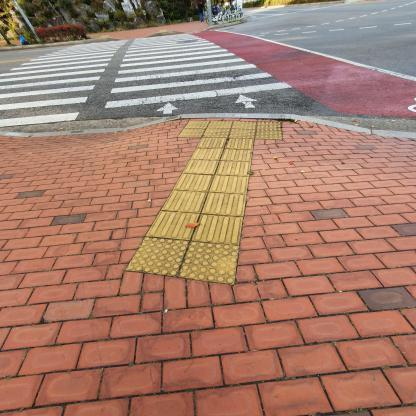podotacti: (112, 117, 286, 292)
